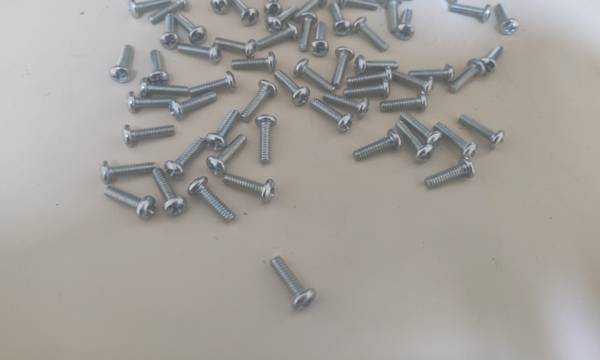shortscrew: (270, 255, 316, 310), (188, 177, 236, 224), (164, 137, 208, 180), (104, 186, 157, 221), (206, 134, 249, 177), (458, 113, 506, 150), (434, 122, 478, 161), (152, 168, 187, 217), (239, 80, 278, 122), (396, 120, 434, 163), (424, 157, 475, 189), (223, 174, 277, 204), (400, 112, 442, 149), (310, 98, 354, 133), (353, 130, 402, 161), (206, 109, 241, 152), (294, 59, 336, 94), (169, 92, 219, 121), (100, 161, 156, 186), (274, 70, 311, 107), (351, 17, 389, 53), (322, 93, 370, 120), (449, 59, 486, 94), (189, 71, 236, 98), (122, 125, 176, 148), (257, 22, 299, 51), (256, 113, 277, 165), (379, 91, 428, 113), (176, 13, 208, 46), (139, 78, 189, 99), (148, 0, 189, 25), (391, 71, 435, 94), (347, 66, 393, 88), (127, 91, 170, 114), (343, 79, 390, 100), (178, 42, 222, 64), (265, 6, 299, 34), (333, 47, 355, 90), (232, 52, 277, 72), (109, 45, 132, 84), (409, 63, 454, 82), (496, 3, 521, 37), (450, 3, 492, 23), (129, 0, 171, 20), (216, 38, 258, 58), (355, 55, 399, 74), (229, 0, 259, 27), (298, 12, 318, 51), (148, 50, 169, 86), (293, 0, 329, 21), (330, 2, 352, 36), (310, 22, 330, 58), (160, 14, 180, 49), (481, 45, 505, 74), (395, 9, 415, 41), (339, 0, 379, 12), (211, 0, 236, 15), (265, 0, 283, 17), (434, 0, 459, 5), (377, 0, 417, 2)
